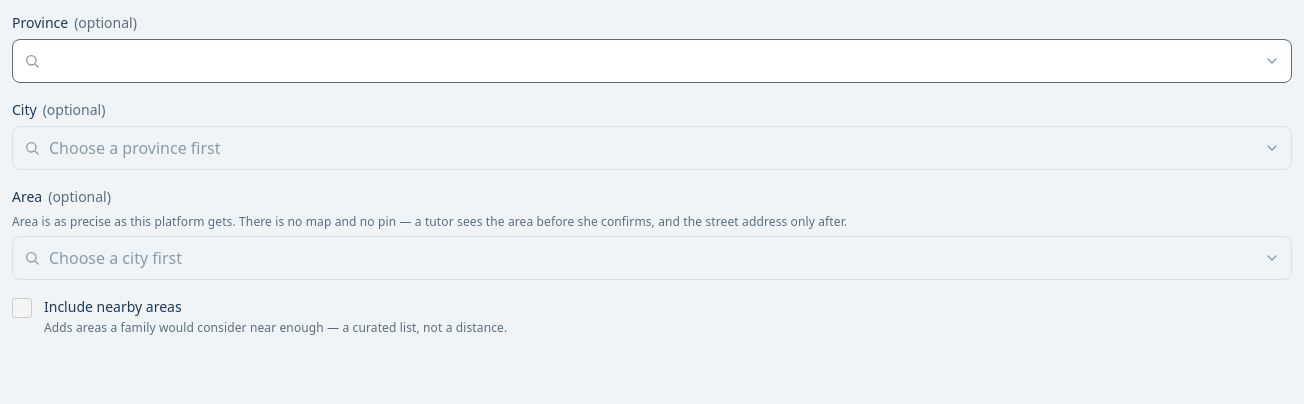
Test: LocationPicker › cascades province → city → area
Click the dropdown labelled "Province(optional)": [652, 61] box [12, 39, 1292, 83]
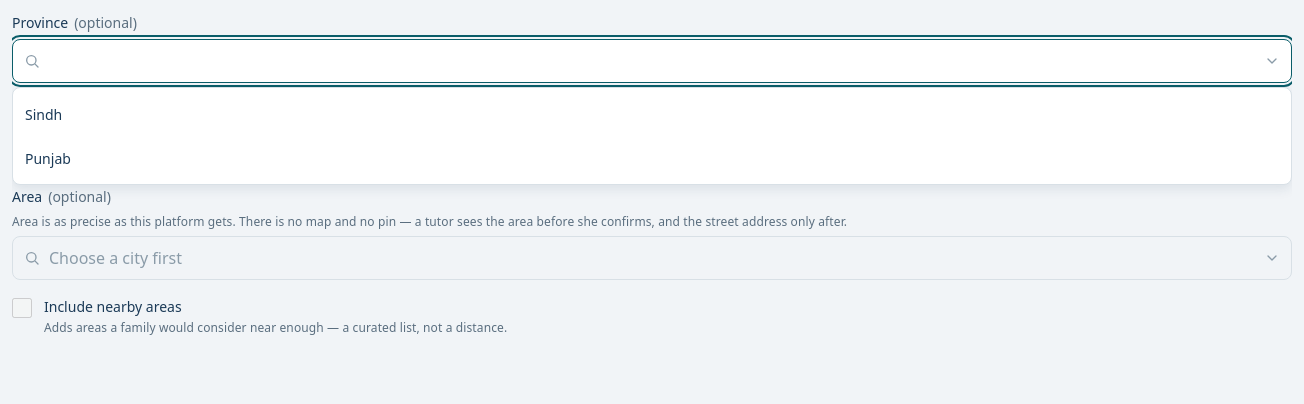
Click the option "Sindh": [44, 114] box [25, 104, 62, 124]
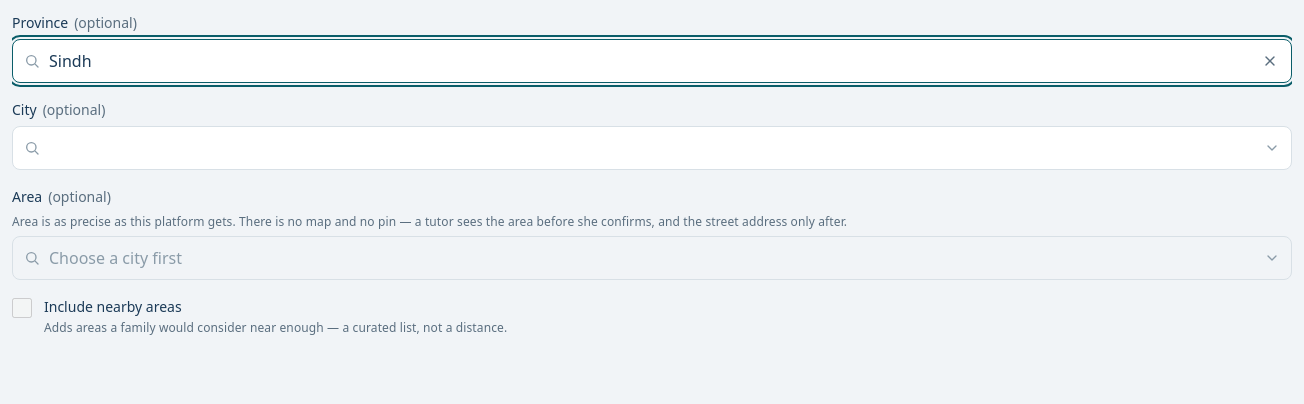
Expected: the dropdown labelled "City(optional)" is enabled
Click the dropdown labelled "City(optional)": [652, 148] box [12, 126, 1292, 170]
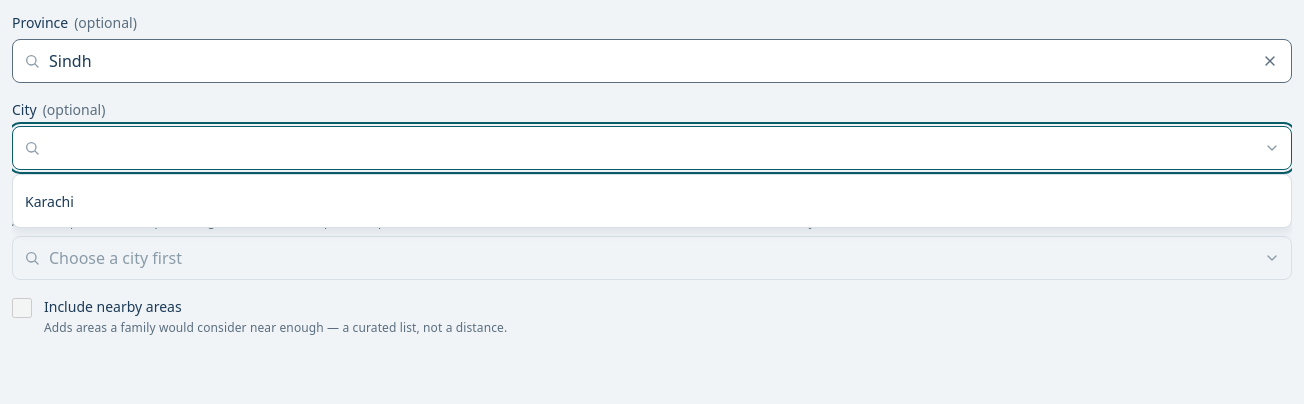
Click the option "Karachi": [49, 201] box [25, 192, 74, 210]
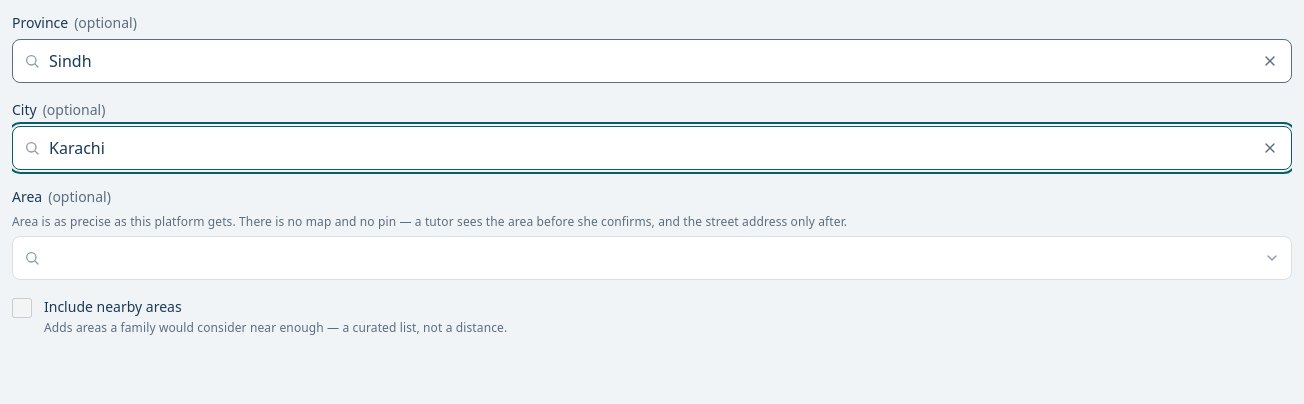
Expected: the dropdown labelled "Area(optional)" is enabled
Click the dropdown labelled "Area(optional)": [652, 258] box [12, 236, 1292, 280]
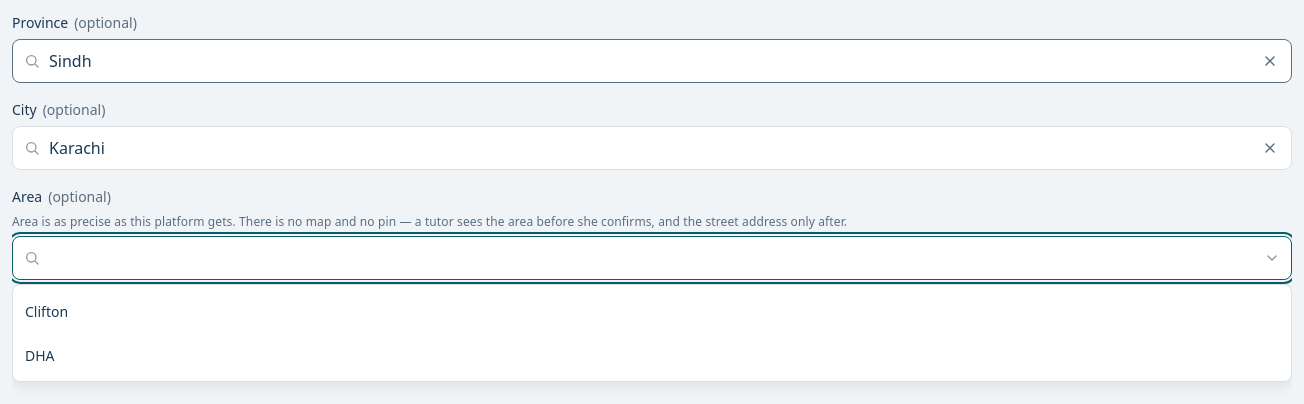
Expected: the option "Clifton" is shown, [25, 302, 68, 321]
